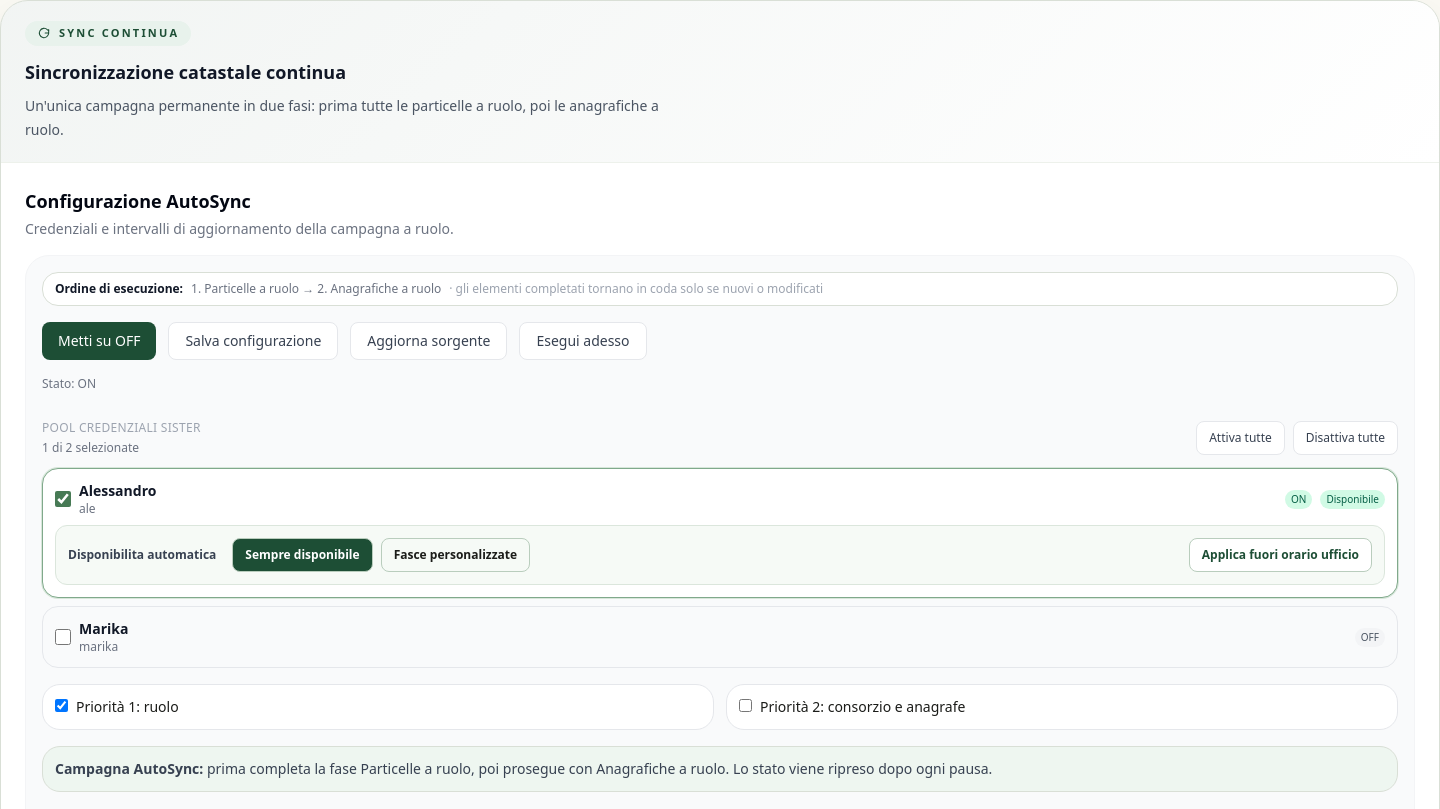
Test: ElaborazioneRequestWorkspace continuous sync › fills missing AutoSync profiles without changing global credential schedules
Expected: the element "Pool credenziali SISTER" is shown, [42,408,1398,668]
Expected: the checkbox labelled "Marika marika OFF" is not checked, [55,629,71,645]
Click the button "Attiva tutte".
click(1240, 438)  # box [1196,421,1285,455]
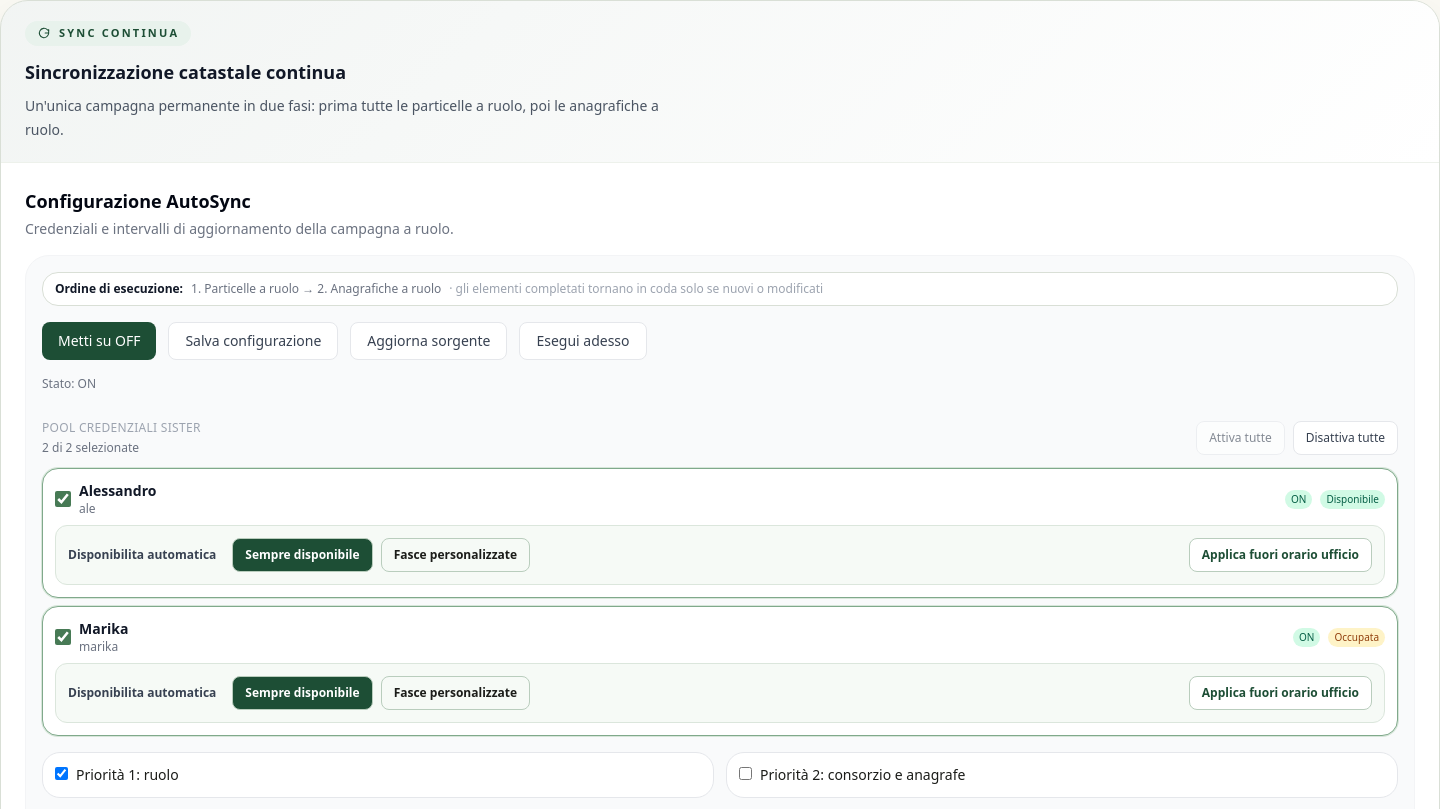
Now the checkbox labelled "Marika marika ON Occupata" is checked, box [55,629,71,645]
Now the number of elements "Disponibilita automatica" is 2, box [68,538,530,572]; [68,676,530,710]
